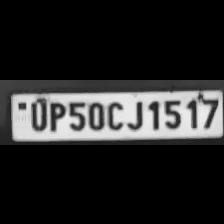0: (86, 97, 104, 130)
1: (182, 96, 200, 128), (144, 96, 160, 130)
5: (160, 96, 182, 128), (66, 97, 86, 130)
7: (198, 96, 220, 128)
C: (104, 97, 124, 129)
J: (124, 96, 144, 130)
P: (46, 98, 64, 132)
U: (26, 98, 46, 130)
